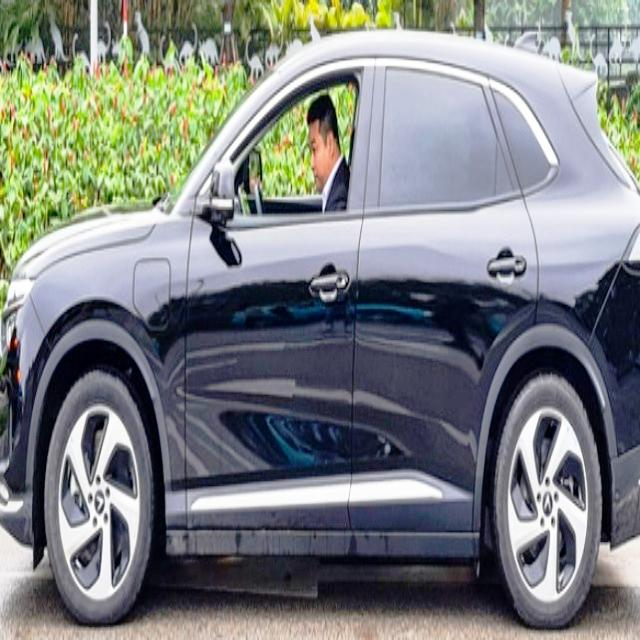Car: (0, 26, 639, 630)
